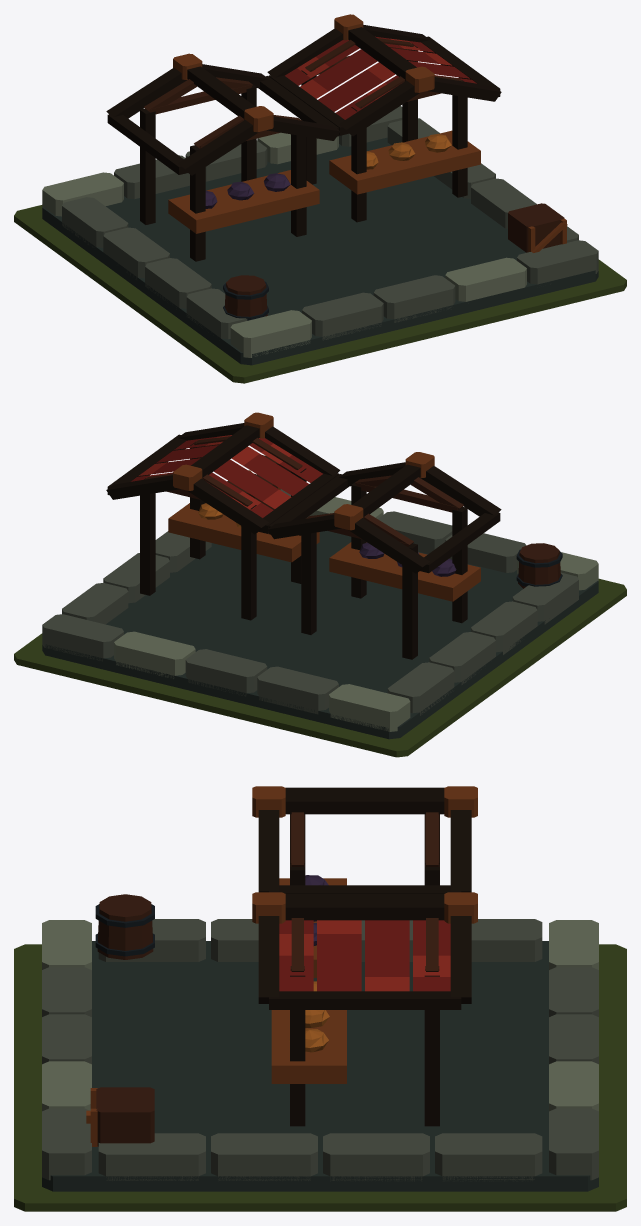
File: market_t3.glb
3 views of the same model, one above another, from view 1: azimuth 30°, elevation 25°; view 2: azimuth 150°, elevation 25°; view 3: azimuth 270°, elevation 25° (orthographic). The views are drawn at different scales.
Parts seen in each view (by area): view 1: MMR | market | T03 Architecture.001, MMR | market | Tier 03 Ground.001; view 2: MMR | market | T03 Architecture.001, MMR | market | Tier 03 Ground.001; view 3: MMR | market | T03 Architecture.001, MMR | market | Tier 03 Ground.001.
Boxes of the visible parts, <box> form: MMR | market | T03 Architecture.001: <box>42,14,598,365</box>; MMR | market | Tier 03 Ground.001: <box>14,205,626,383</box>; MMR | market | T03 Architecture.001: <box>42,412,598,739</box>; MMR | market | Tier 03 Ground.001: <box>14,578,626,757</box>; MMR | market | T03 Architecture.001: <box>42,786,598,1191</box>; MMR | market | Tier 03 Ground.001: <box>14,944,626,1211</box>.
Size of the model in its own units: 3.3 by 1.41 by 3.3.
Materials: 1 (1 with a texture image).
